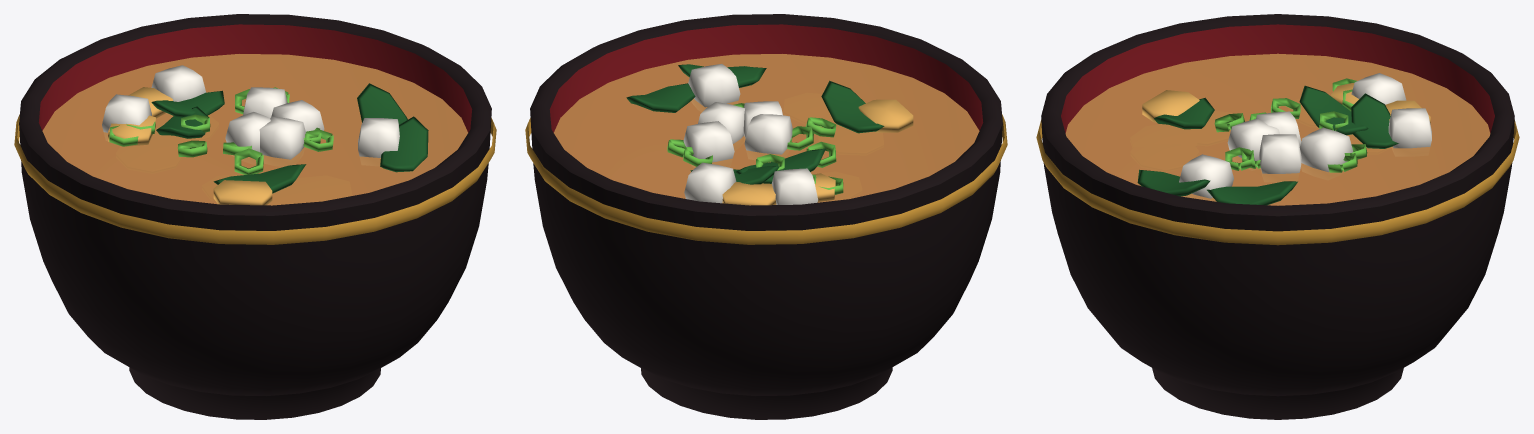
3 views of the same model, side by side, from view 1: azimuth 30°, elevation 25°; view 2: azimuth 150°, elevation 25°; view 3: azimuth 270°, elevation 25° (orthographic).
Visible parts, largest first — view 1: bowl_outer, surface, bowl_rim, bowl_inner, tofu, gold_band, wakame, scallion, aburaage; view 2: bowl_outer, surface, bowl_rim, bowl_inner, tofu, gold_band, wakame, aburaage, scallion; view 3: bowl_outer, surface, bowl_rim, bowl_inner, tofu, gold_band, wakame, scallion, aburaage.
Part boxes in pixels (<box>): bowl_outer: <box>19,113,491,419</box>; surface: <box>42,54,467,205</box>; bowl_rim: <box>19,14,491,215</box>; bowl_inner: <box>38,24,472,132</box>; tofu: <box>102,65,399,159</box>; gold_band: <box>14,114,496,244</box>; wakame: <box>151,83,428,193</box>; scallion: <box>109,87,333,174</box>; aburaage: <box>108,87,272,205</box>; bowl_outer: <box>530,113,1002,419</box>; surface: <box>554,54,979,204</box>; bowl_rim: <box>530,14,1002,215</box>; bowl_inner: <box>549,24,983,132</box>; tofu: <box>683,64,818,204</box>; gold_band: <box>525,114,1007,244</box>; wakame: <box>626,64,884,184</box>; aburaage: <box>722,99,913,205</box>; scallion: <box>667,103,843,194</box>; bowl_outer: <box>1041,117,1514,419</box>; surface: <box>1065,53,1490,205</box>; bowl_rim: <box>1041,14,1514,216</box>; bowl_inner: <box>1061,24,1494,132</box>; tofu: <box>1179,73,1431,198</box>; gold_band: <box>1036,120,1519,245</box>; wakame: <box>1137,85,1398,205</box>; scallion: <box>1214,78,1367,172</box>; aburaage: <box>1142,83,1430,124</box>.
Size of the model in its own units: 0.1224 by 0.0718 by 0.1224.
